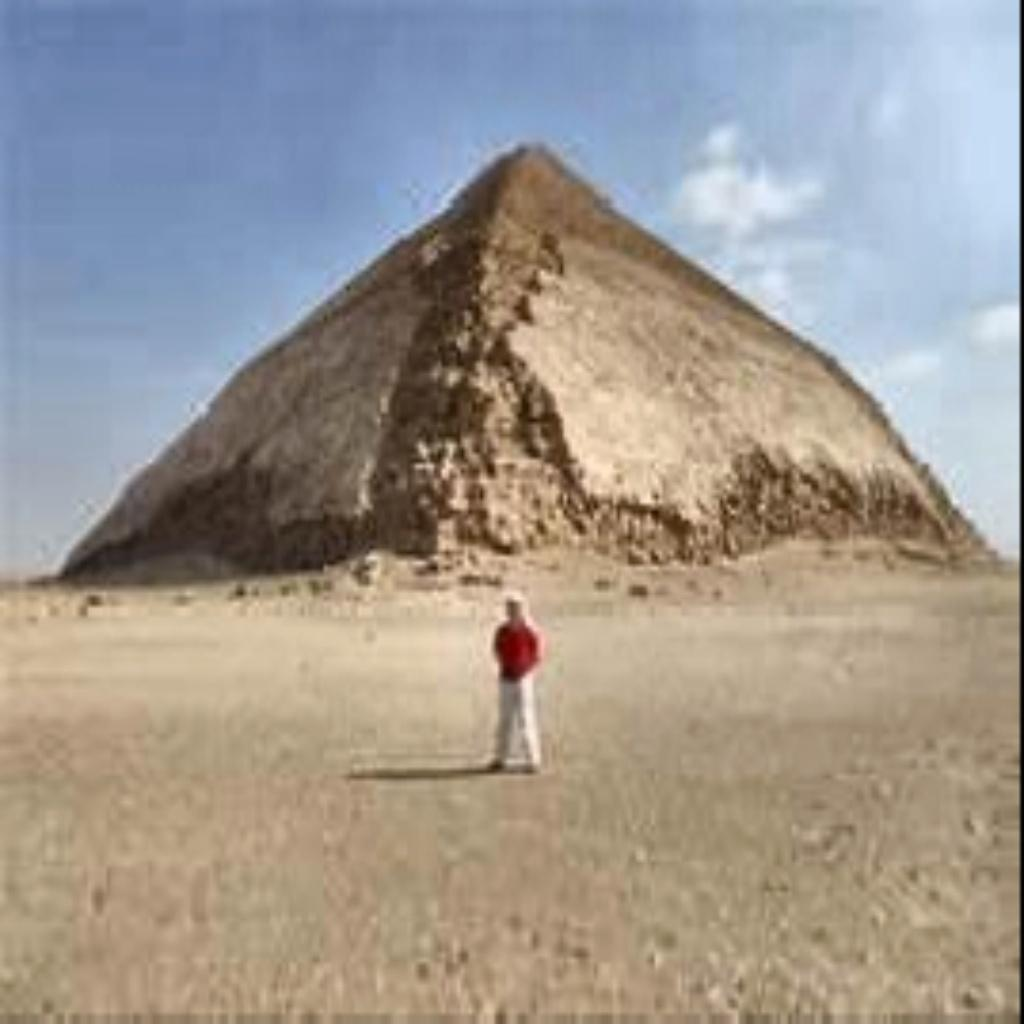Bent Pyramid of King Sneferu: (50, 132, 994, 580)
